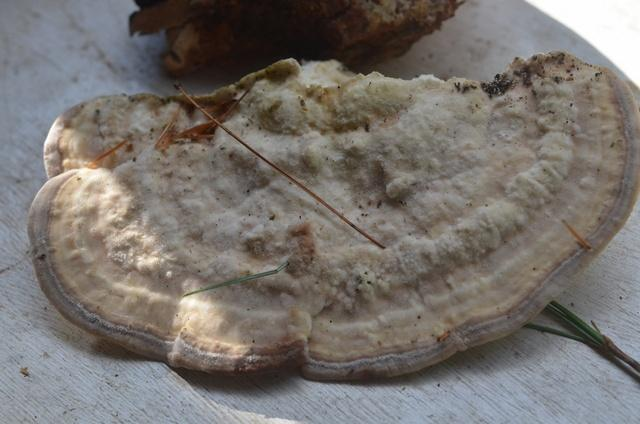Non-edible Mushroom: (26, 48, 637, 381)
